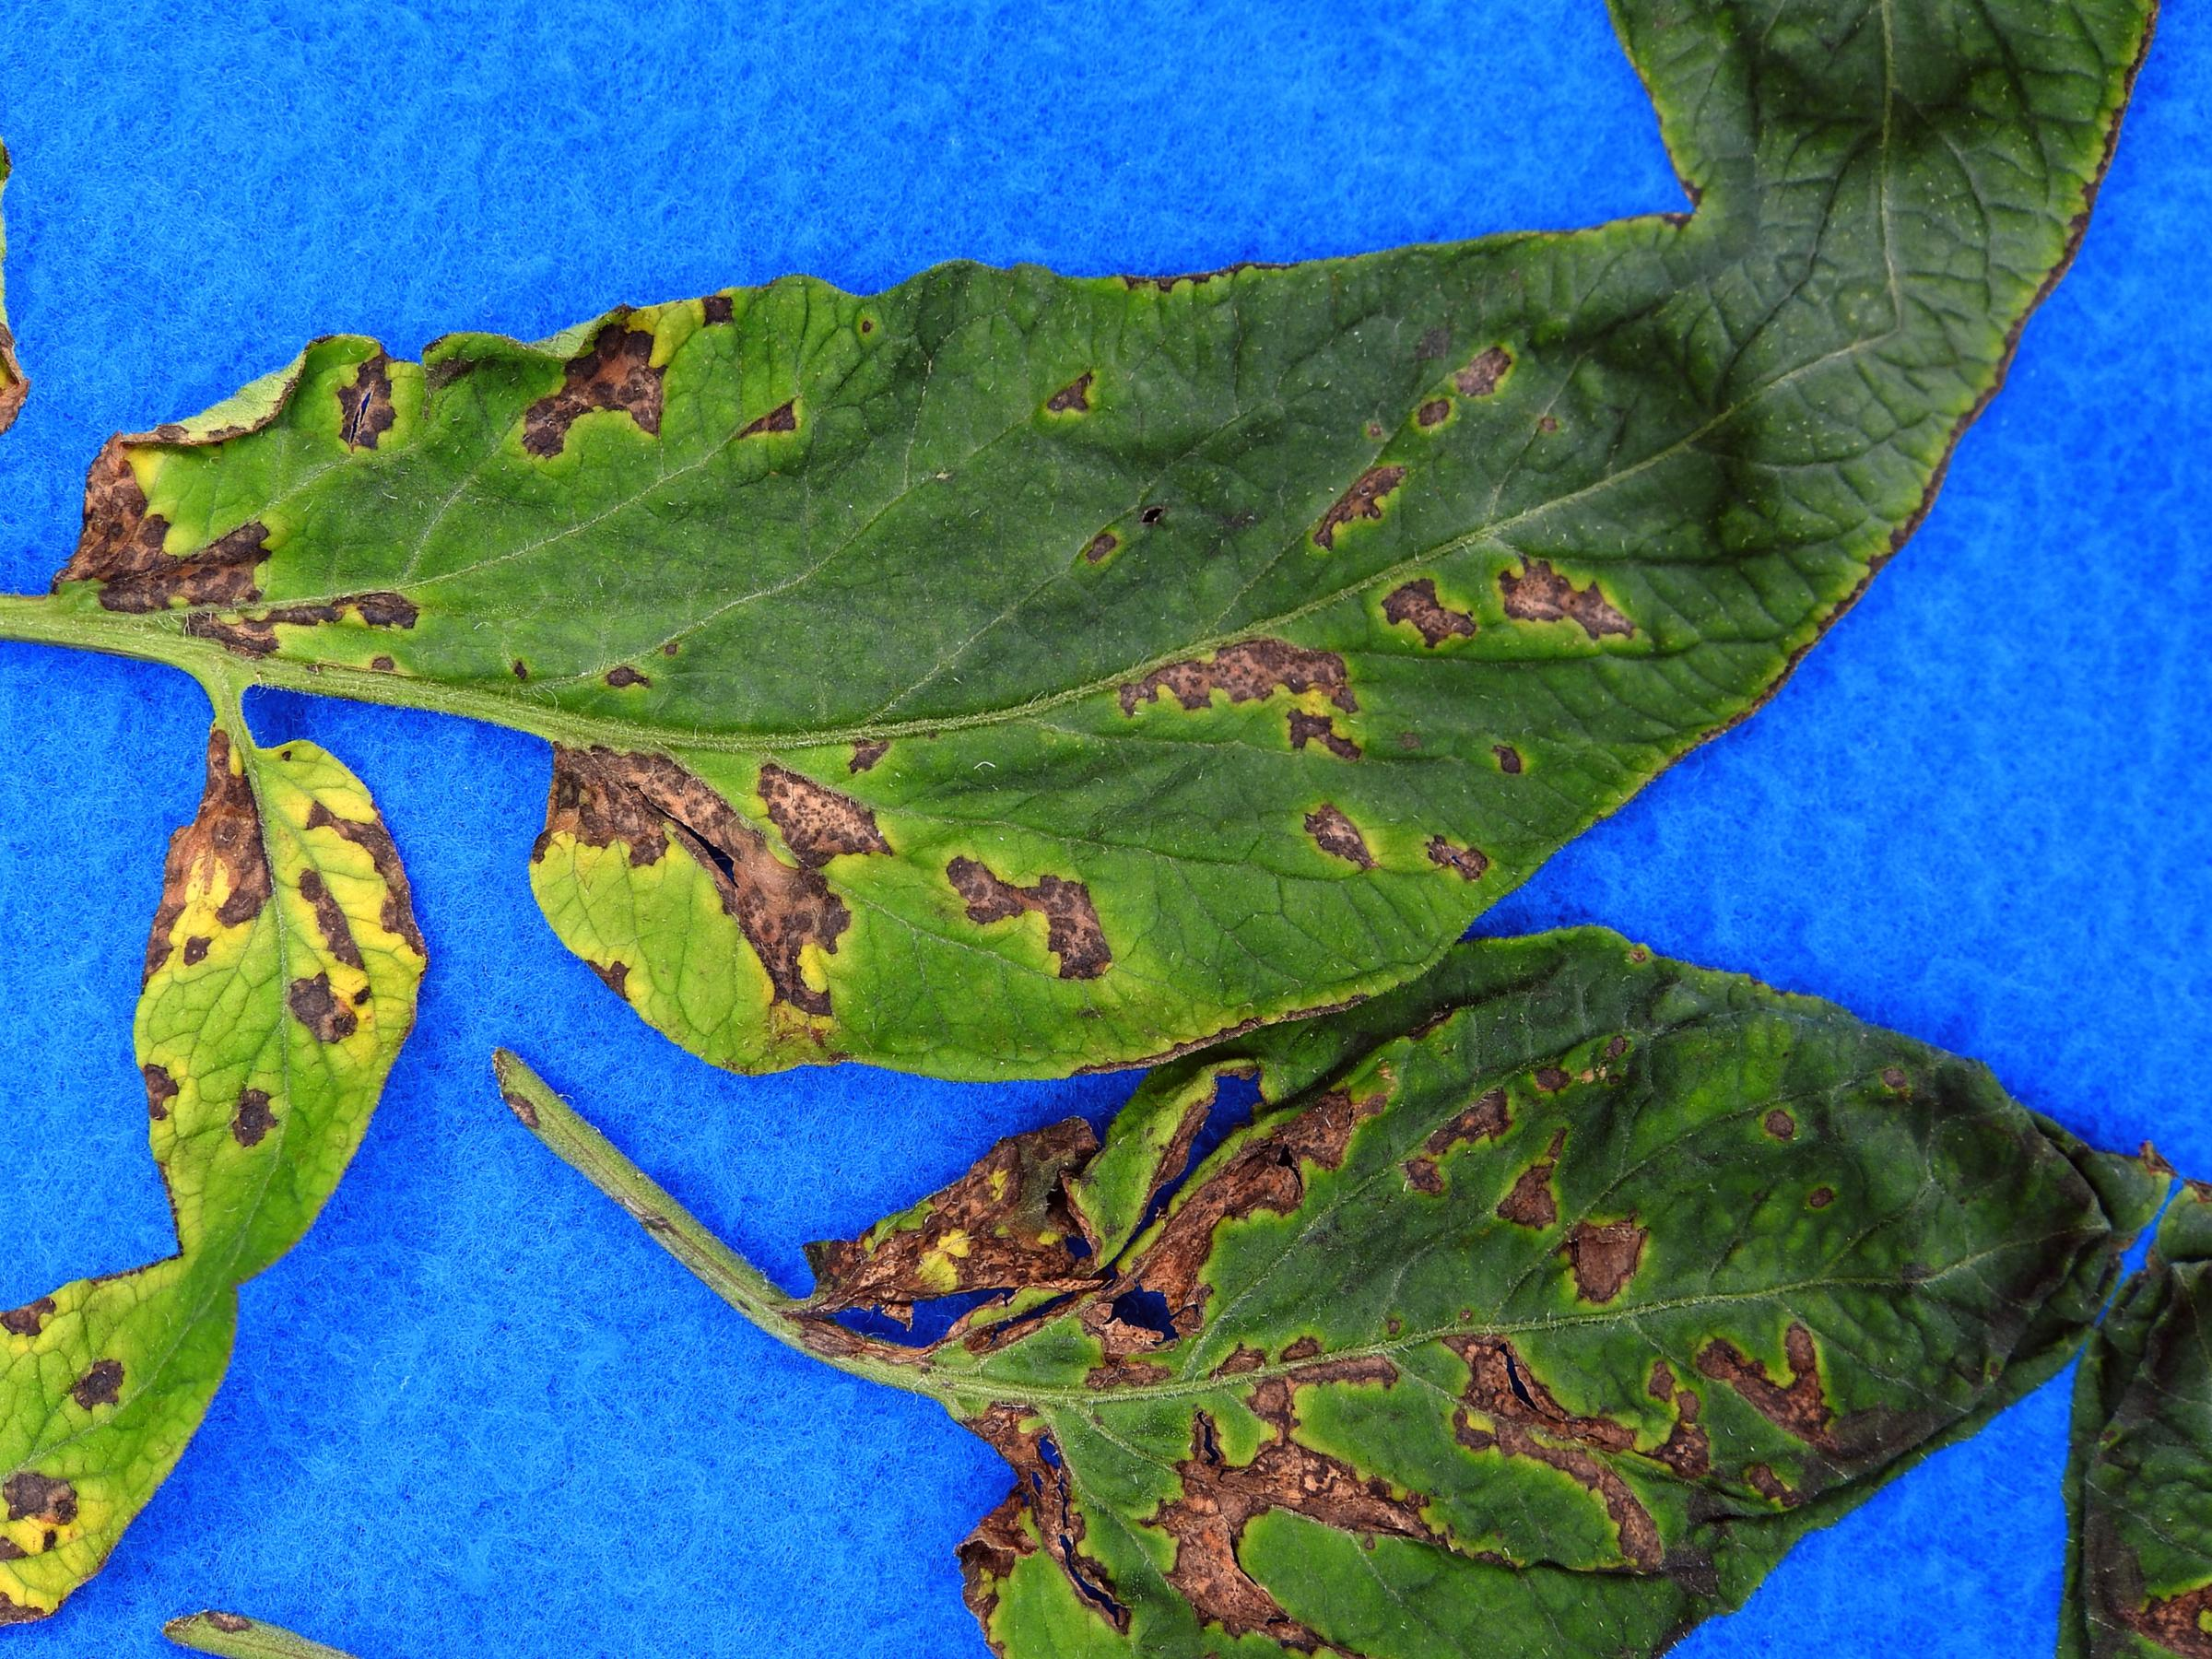Tomato leaf bacterial spot: (0, 0, 2027, 1527), (709, 610, 2193, 1659), (0, 669, 561, 1321)
